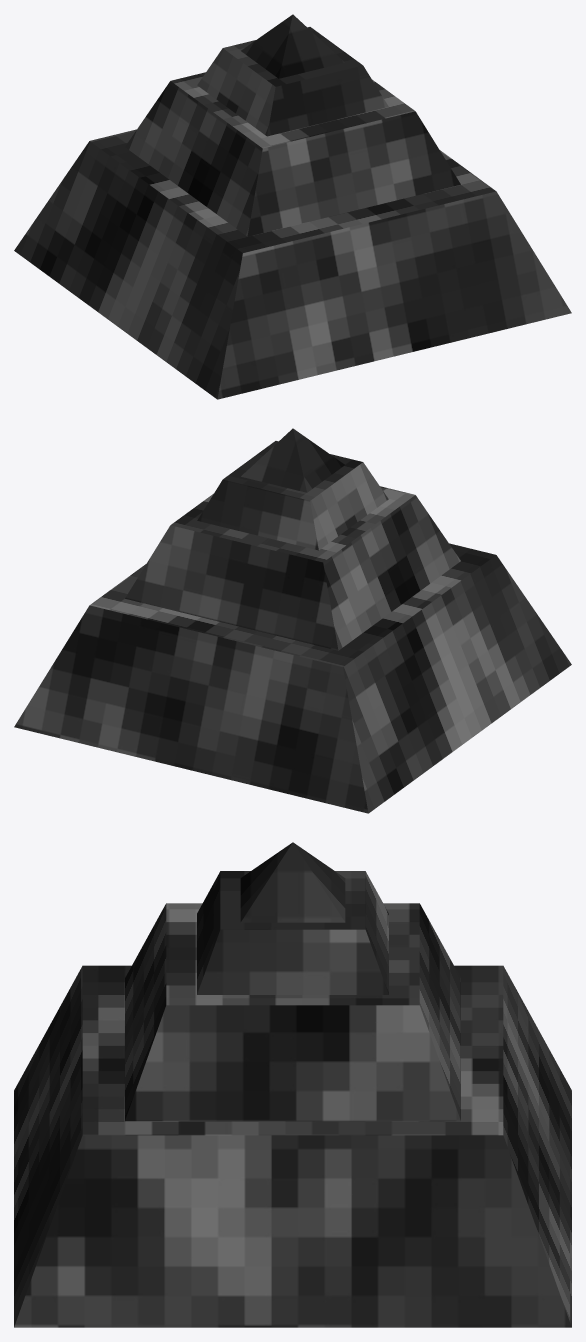
The model's file is Spike.fbx.
3 views of the same model, one above another, from view 1: azimuth 30°, elevation 25°; view 2: azimuth 150°, elevation 25°; view 3: azimuth 270°, elevation 25° (orthographic). The views are drawn at different scales.
Visible parts, largest first — view 1: spike:polySurface31; view 2: spike:polySurface31; view 3: spike:polySurface31.
Part boxes in pixels (x1,y1,x2,y2): spike:polySurface31: (14, 14, 571, 399); spike:polySurface31: (14, 428, 571, 813); spike:polySurface31: (14, 842, 571, 1327).
Size of the model in its own units: 3.97 by 2.87 by 3.95.
